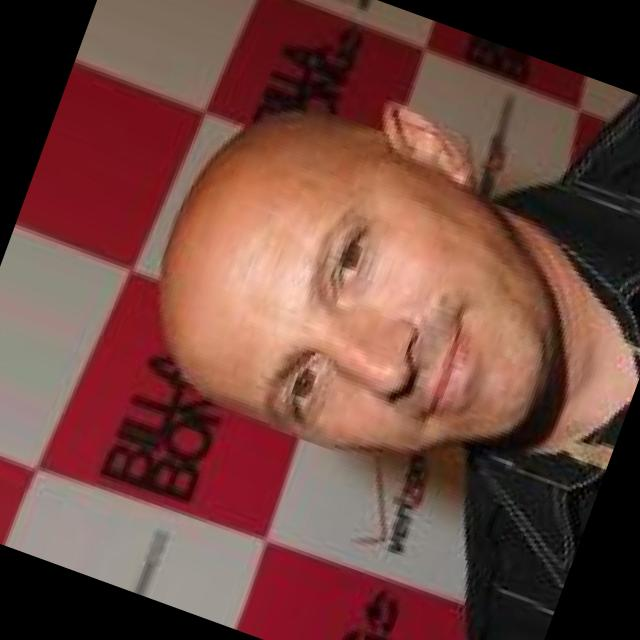bareface: (107, 39, 580, 500)
